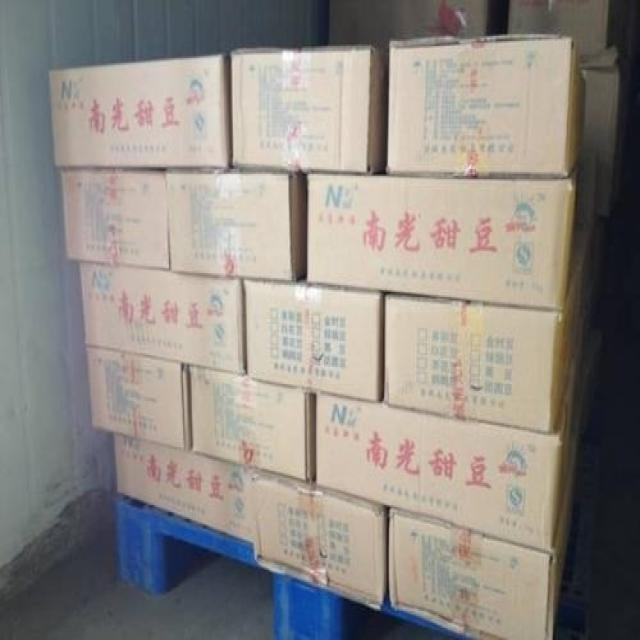box: (315, 359, 582, 554), (308, 153, 591, 310), (384, 257, 586, 433), (390, 477, 574, 638), (387, 35, 587, 176), (49, 55, 231, 171), (231, 47, 388, 174), (250, 470, 390, 607), (77, 261, 245, 375), (246, 277, 384, 402), (113, 433, 255, 544), (165, 172, 309, 281), (190, 367, 316, 484), (87, 347, 193, 451), (59, 170, 170, 269)
